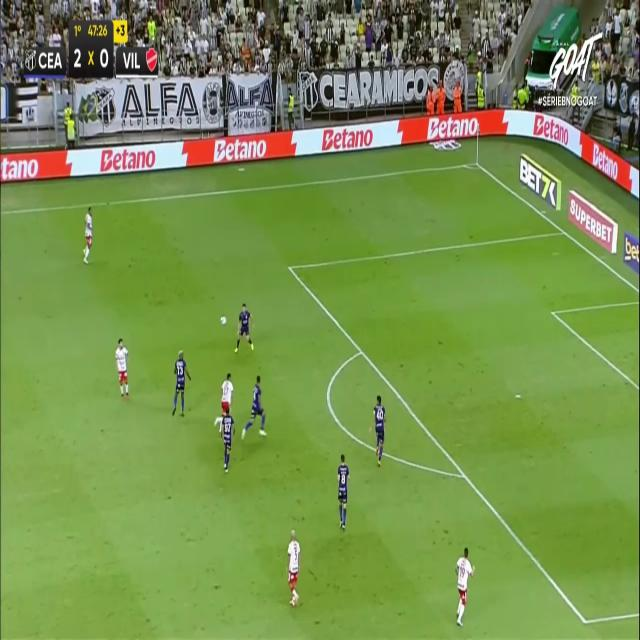ball: (221, 312, 227, 332)
player: (241, 374, 267, 440), (455, 547, 475, 626), (171, 349, 191, 416), (368, 395, 386, 466), (214, 371, 234, 433), (286, 528, 300, 606), (219, 404, 235, 472), (337, 452, 350, 530), (234, 302, 254, 352), (115, 337, 129, 397), (83, 206, 93, 263)
